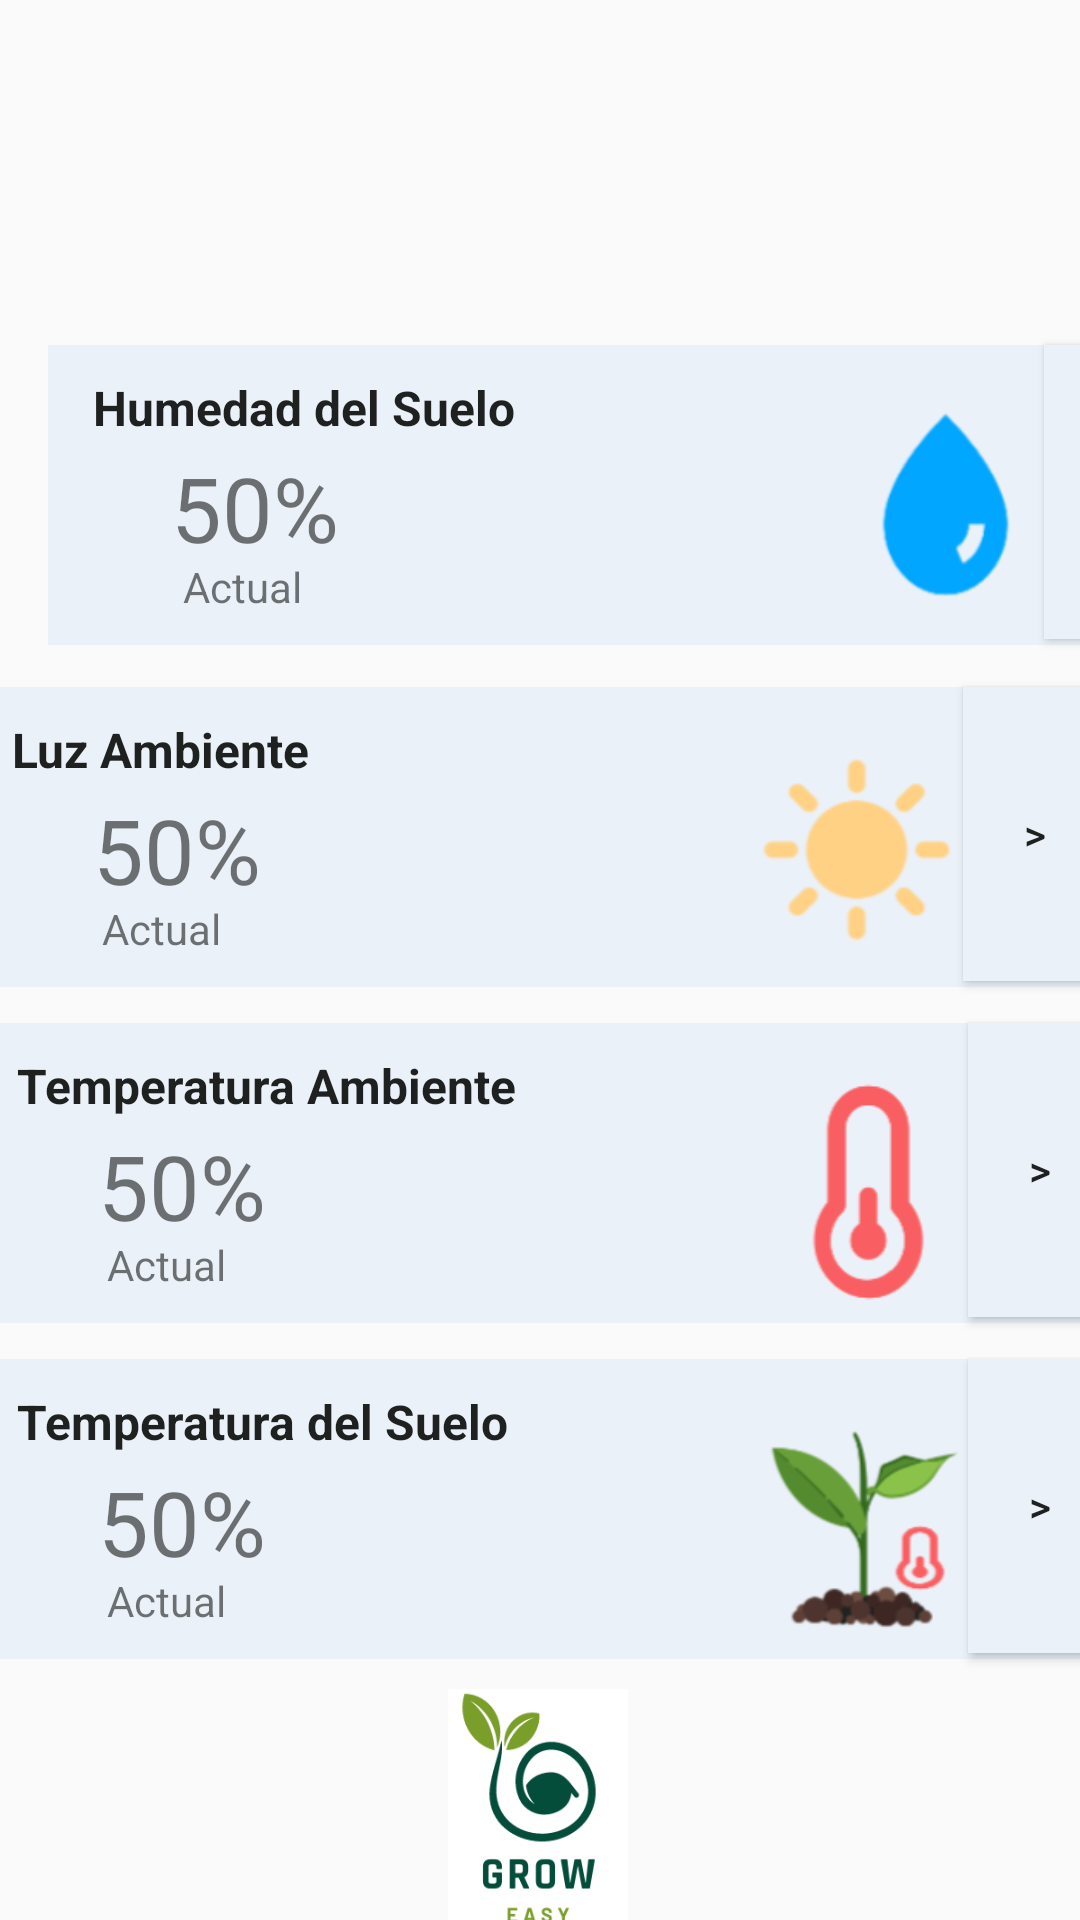

Icon click points for this 1080w x 1920h phone screenshot, format [x,y]:
drop: [945,504]
soil temperature: [864,1529]
sun: [856,849]
temperature: [868,1192]
